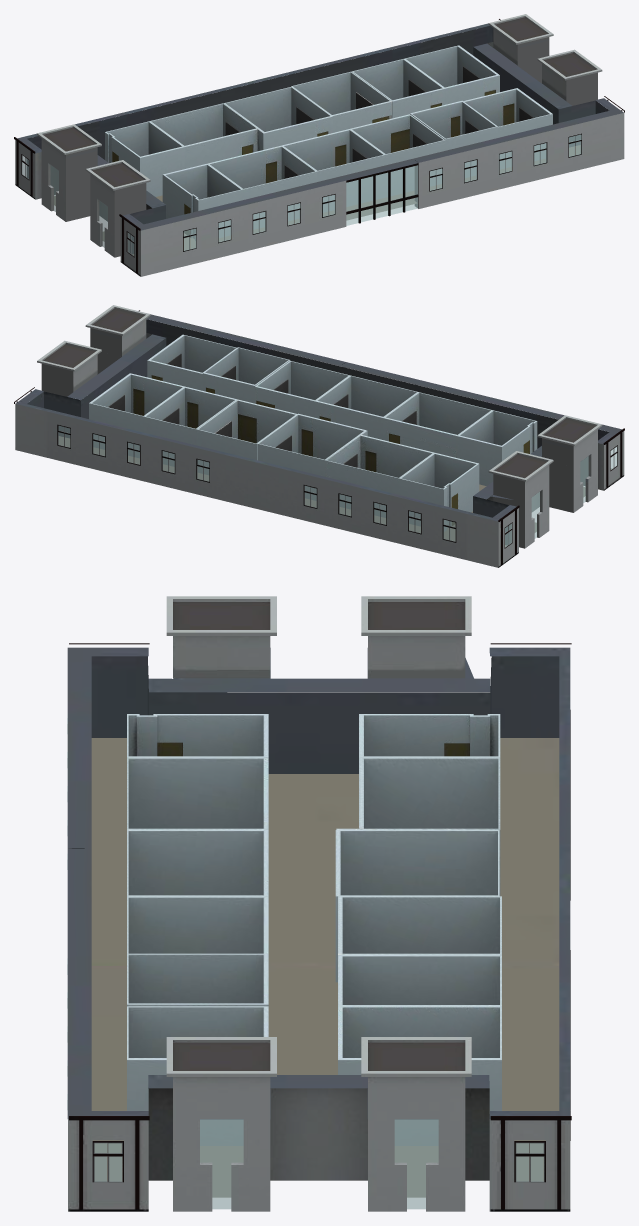
3 views of the same model, one above another, from view 1: azimuth 30°, elevation 25°; view 2: azimuth 150°, elevation 25°; view 3: azimuth 270°, elevation 25° (orthographic). The views are drawn at different scales.
Parts seen in each view (by area): view 1: floor_4_0, room_11_12, room_04_5, room_10_11, room_05_6, room_03_4, room_12_13, room_09_10, room_06_7, room_07_8, room_08_9, room_01_2 (+1 smaller); view 2: floor_4_0, room_05_6, room_11_12, room_10_11, room_04_5, room_12_13, room_09_10, room_06_7, room_07_8, room_03_4, room_08_9, room_01_2 (+1 smaller); view 3: floor_4_0, room_10_11, room_11_12, room_05_6, room_09_10, room_04_5, room_07_8, room_08_9, room_03_4, room_01_2, room_02_3, room_06_7 (+1 smaller).
Part boxes in pixels (x1=…): floor_4_0: x1=14, y1=14, x2=624, y2=276; room_11_12: x1=149, y1=103, x2=264, y2=168; room_04_5: x1=282, y1=129, x2=384, y2=212; room_10_11: x1=224, y1=86, x2=332, y2=149; room_05_6: x1=208, y1=145, x2=316, y2=229; room_03_4: x1=350, y1=114, x2=445, y2=197; room_12_13: x1=105, y1=121, x2=184, y2=196; room_09_10: x1=291, y1=71, x2=392, y2=132; room_06_7: x1=162, y1=163, x2=242, y2=240; room_07_8: x1=404, y1=45, x2=499, y2=104; room_08_9: x1=351, y1=59, x2=444, y2=118; room_01_2: x1=463, y1=88, x2=552, y2=169; floor_4_0: x1=14, y1=305, x2=624, y2=567; room_05_6: x1=383, y1=392, x2=492, y2=457; room_11_12: x1=325, y1=430, x2=434, y2=517; room_10_11: x1=257, y1=413, x2=365, y2=500; room_04_5: x1=315, y1=375, x2=418, y2=439; room_12_13: x1=399, y1=453, x2=479, y2=531; room_09_10: x1=196, y1=399, x2=297, y2=474; room_06_7: x1=457, y1=410, x2=537, y2=485; room_07_8: x1=89, y1=373, x2=184, y2=457; room_03_4: x1=255, y1=361, x2=349, y2=417; room_08_9: x1=144, y1=386, x2=237, y2=466; room_01_2: x1=147, y1=334, x2=236, y2=390; floor_4_0: x1=67, y1=596, x2=571, y2=1211; room_10_11: x1=335, y1=830, x2=499, y2=982; room_11_12: x1=336, y1=757, x2=500, y2=895; room_05_6: x1=127, y1=757, x2=268, y2=829; room_09_10: x1=338, y1=896, x2=501, y2=954; room_04_5: x1=127, y1=830, x2=268, y2=896; room_07_8: x1=338, y1=1006, x2=501, y2=1145; room_08_9: x1=338, y1=955, x2=501, y2=1006; room_03_4: x1=127, y1=896, x2=268, y2=953; room_01_2: x1=127, y1=1006, x2=268, y2=1145; room_02_3: x1=127, y1=953, x2=268, y2=1006; room_06_7: x1=127, y1=714, x2=268, y2=757.
Bounding box in the file's own units: 0.4352 × 0.076 × 0.1942.
Materials: 26 (25 with a texture image).
